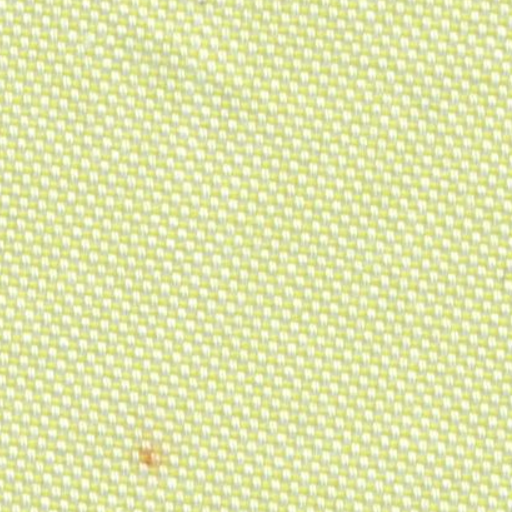WuZi: (125, 431, 185, 482)
